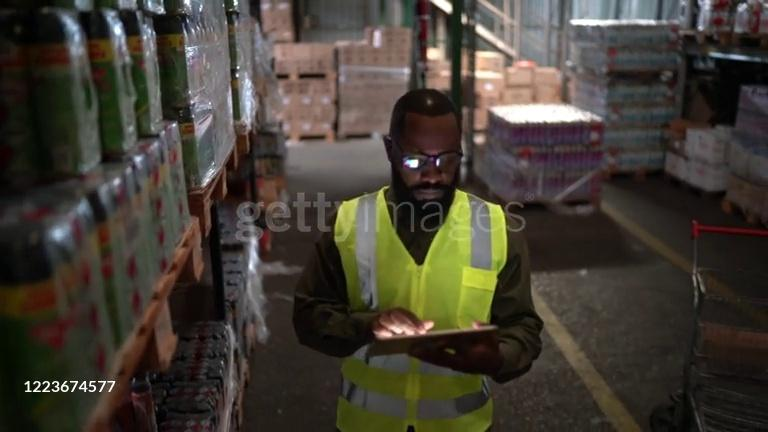person: (290, 86, 547, 432)
